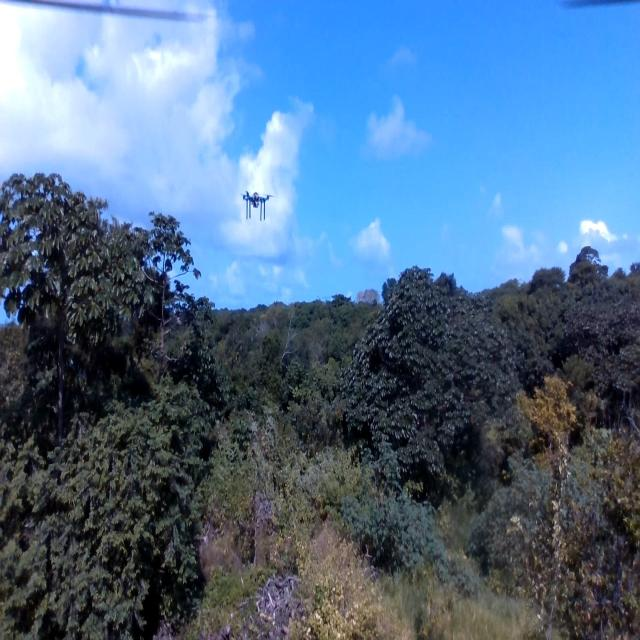-uav-: (236, 181, 282, 234)
